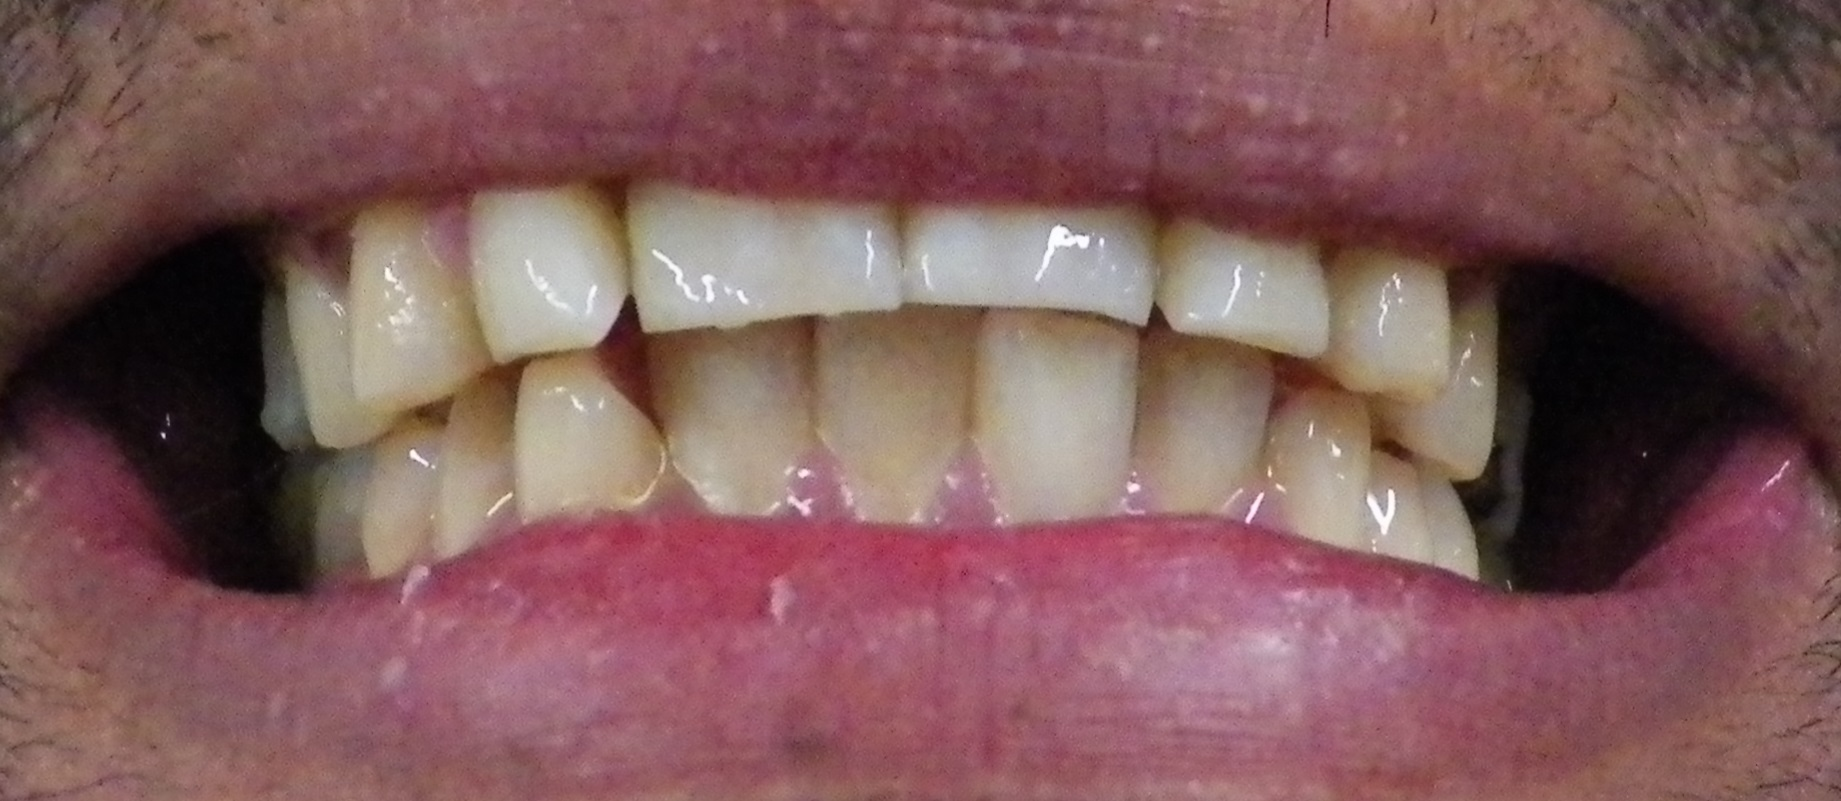boca: (263, 191, 1537, 583)
